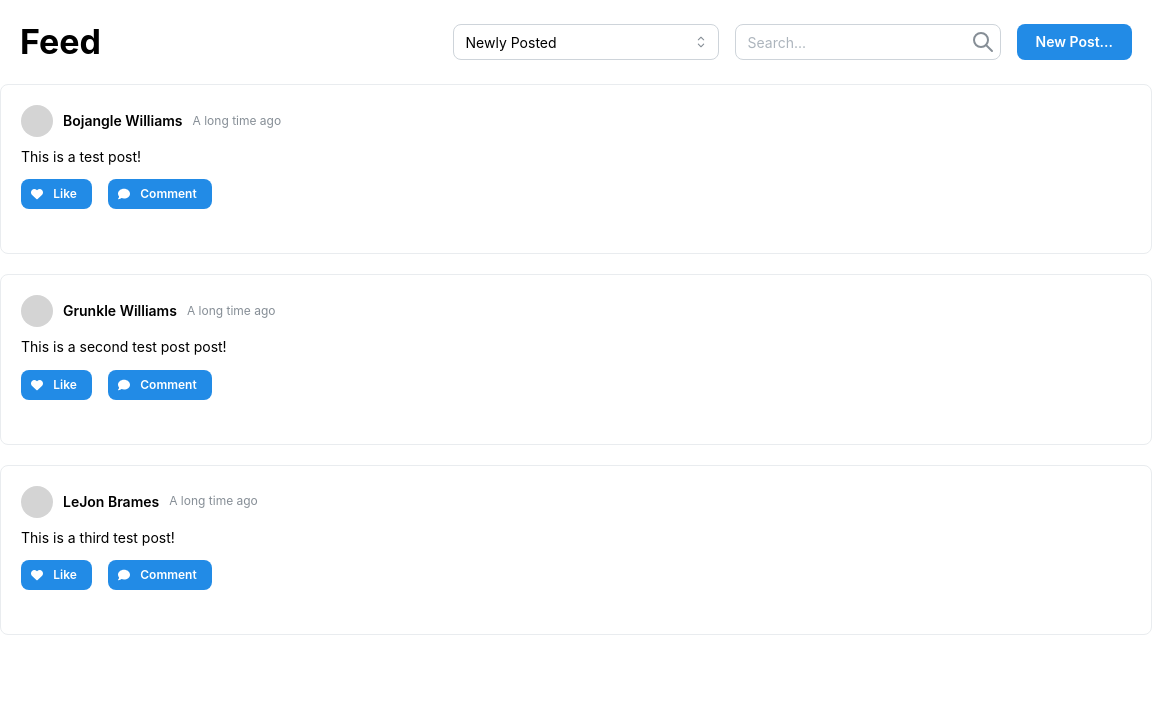
Scenario: Home page - Create Post › Render post drawer with the correct fields
Click the button "New Post..." at {"x": 1074, "y": 42}, box [1016,24,1132,60]
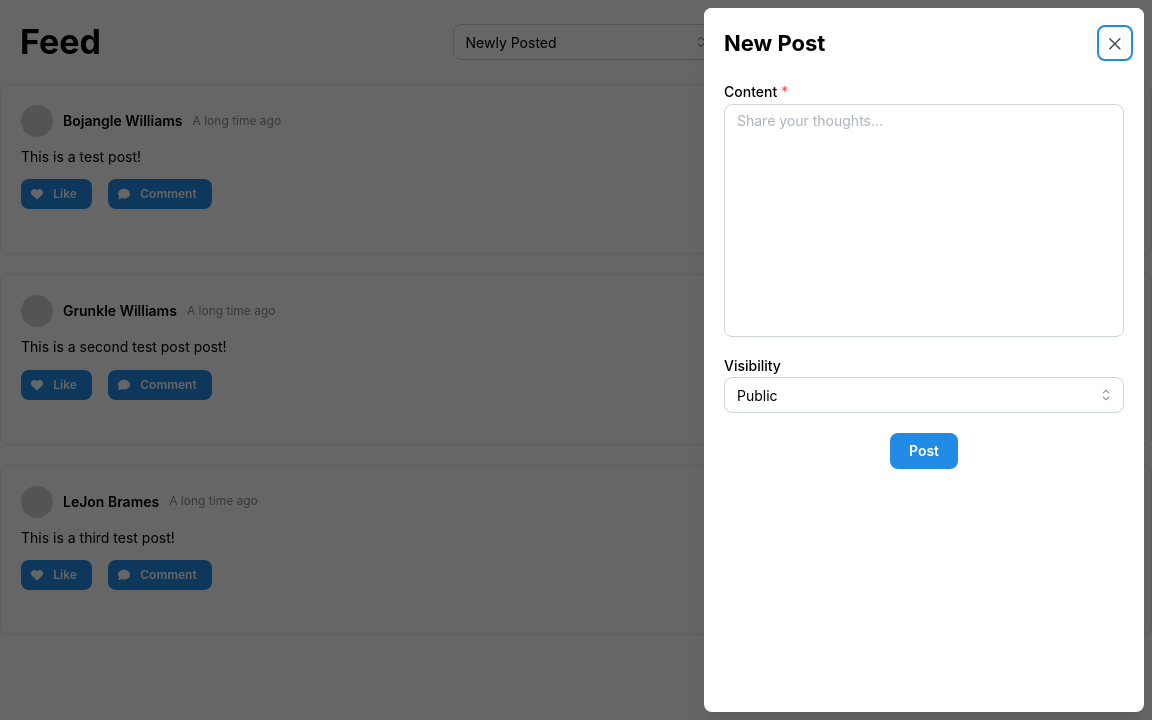
Result: the text "New Post" is shown at [724,28,825,59]
Result: the text box with test id "post-content" is shown at [724,104,1124,337]
